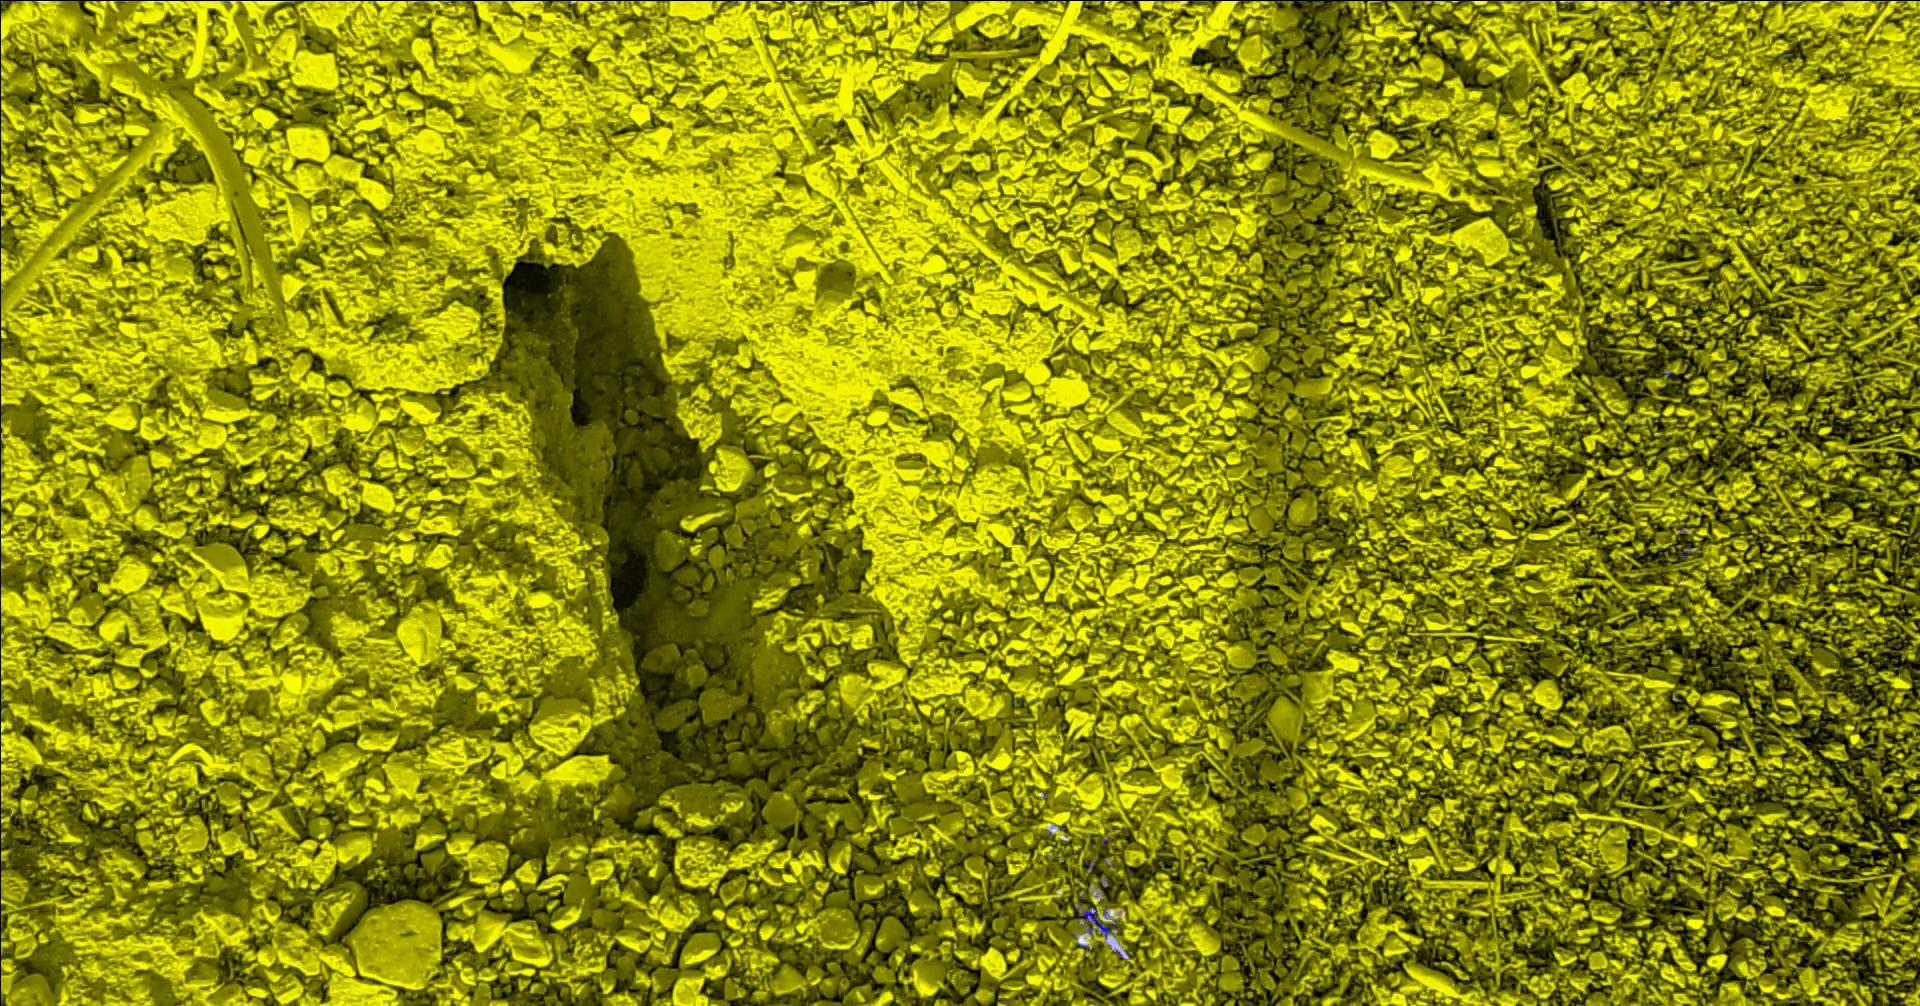ant: (1078, 907, 1117, 937)
